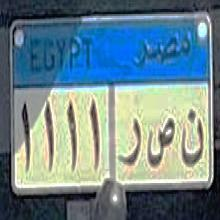1: (62, 102, 82, 174), (19, 96, 35, 176), (86, 95, 103, 170), (42, 98, 58, 174)
noon: (179, 100, 205, 170)
raa: (118, 110, 142, 171)
saad: (145, 114, 175, 173)
